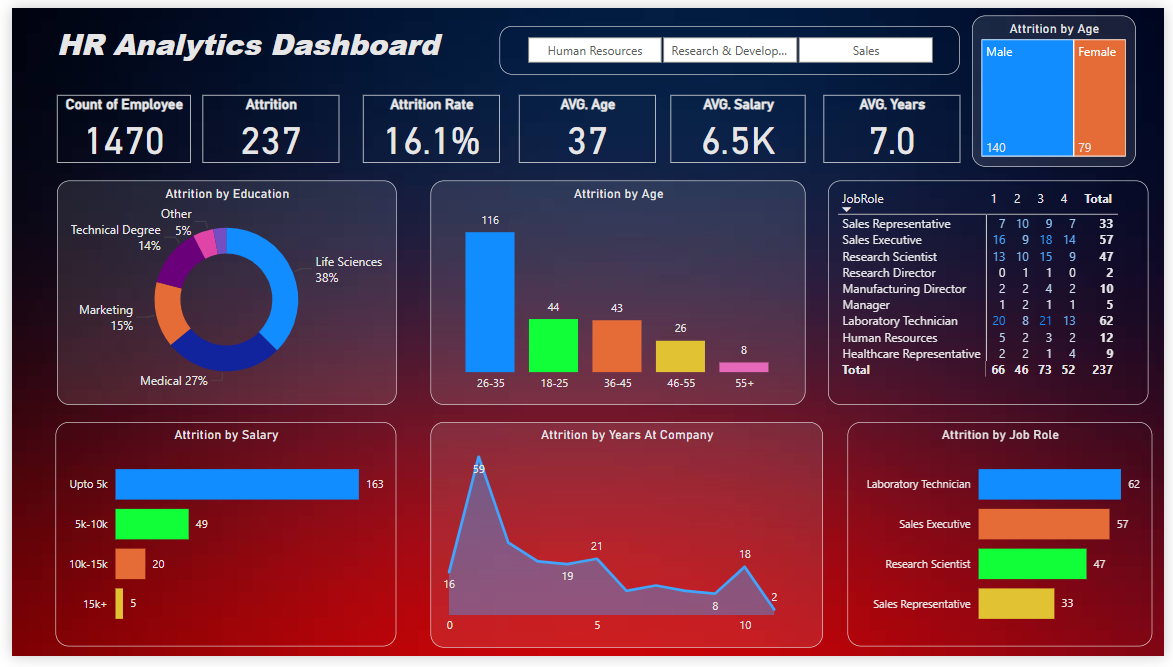

The page's visual inventory and layout, read from the dashboard file:
{"tool":"powerbi","page":{"name":"Page 1","canvas":[1280,720],"ordinal":0},"visuals":[{"type":"card","title":"Count of Employee","fields":{"Values":["CountNonNull(HR_Analytics.EmpID)"]},"box":[49.5,97.5,148.6,75.1],"z":0},{"type":"card","title":"Attrition","fields":{"Values":["Sum(HR_Analytics.AttritionCount)"]},"box":[210.9,97.5,151.8,75.1],"z":1000},{"type":"card","title":"AVG.  Age","fields":{"Values":["Avg(HR_Analytics.Age)"]},"box":[564,97.5,151.8,75.1],"z":2000},{"type":"card","title":"Attrition Rate","fields":{"Values":["HR_Analytics.AttritionRate"]},"box":[389.8,97.5,151.8,75.1],"z":3000},{"type":"card","title":"AVG.  Years","fields":{"Values":["Avg(HR_Analytics.YearsAtCompany)"]},"box":[901.1,97.5,151.8,75.1],"z":4000},{"type":"card","title":"AVG.  Salary","fields":{"Values":["Avg(HR_Analytics.MonthlyIncome)"]},"box":[731.7,97.5,150.2,75.1],"z":5000},{"type":"donutChart","title":"Attrition by Education","fields":{"Y":["Sum(HR_Analytics.AttritionCount)"],"Category":["HR_Analytics.EducationField"]},"box":[49.5,191.7,377.1,249.2],"z":6000},{"type":"columnChart","title":"Attrition by Age","fields":{"Category":["HR_Analytics.AgeGroup"],"Y":["Sum(HR_Analytics.AttritionCount)"]},"box":[464.9,191.7,417,249.2],"z":7000},{"type":"pivotTable","fields":{"Rows":["HR_Analytics.JobRole"],"Columns":["HR_Analytics.JobSatisfaction"],"Values":["Sum(HR_Analytics.AttritionCount)"]},"box":[907.5,191.7,356.3,249.2],"z":8000},{"type":"barChart","title":"Attrition by Salary","fields":{"Category":["HR_Analytics.SalarySlab"],"Y":["Sum(HR_Analytics.AttritionCount)"]},"box":[47.9,460.1,378.6,249.2],"z":9000},{"type":"barChart","title":"Attrition by Job Role","fields":{"Y":["Sum(HR_Analytics.AttritionCount)"],"Category":["HR_Analytics.JobRole"]},"box":[928.2,460.1,338.7,249.2],"z":10000},{"type":"areaChart","title":"Attrition by Years At Company","fields":{"Category":["HR_Analytics.YearsAtCompany"],"Y":["Sum(HR_Analytics.AttritionCount)"]},"box":[464.9,460.1,436.2,250.8],"z":11000},{"type":"treemap","title":"Attrition by Age","fields":{"Group":["HR_Analytics.Gender"],"Values":["Sum(HR_Analytics.AttritionCount)"]},"box":[1067.2,8,182.1,167.8],"z":12000},{"type":"slicer","fields":{"Values":["HR_Analytics.Department"]},"box":[541.6,19.2,511.3,54.3],"z":13000},{"type":"textbox","box":[14.4,11.2,493.7,68.7],"z":14000}]}

Visuals, with their boxes in screenshot pixels (x1, y1, x2, y2), scaled from the page's 1280x720 canvas onto the 1173x667 screenshot:
"Count of Employee" card: <box>45,90,182,160</box>
"Attrition" card: <box>193,90,332,160</box>
"AVG.  Age" card: <box>517,90,656,160</box>
"Attrition Rate" card: <box>357,90,496,160</box>
"AVG.  Years" card: <box>826,90,965,160</box>
"AVG.  Salary" card: <box>671,90,808,160</box>
"Attrition by Education" donutChart: <box>45,178,391,408</box>
"Attrition by Age" columnChart: <box>426,178,808,408</box>
pivotTable - HR_Analytics.JobRole x HR_Analytics.JobSatisfaction: <box>832,178,1158,408</box>
"Attrition by Salary" barChart: <box>44,426,391,657</box>
"Attrition by Job Role" barChart: <box>851,426,1161,657</box>
"Attrition by Years At Company" areaChart: <box>426,426,826,659</box>
"Attrition by Age" treemap: <box>978,7,1145,163</box>
slicer - HR_Analytics.Department: <box>496,18,965,68</box>
textbox: <box>13,10,466,74</box>
